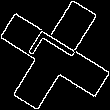L_SE: (25, 28, 85, 82)
